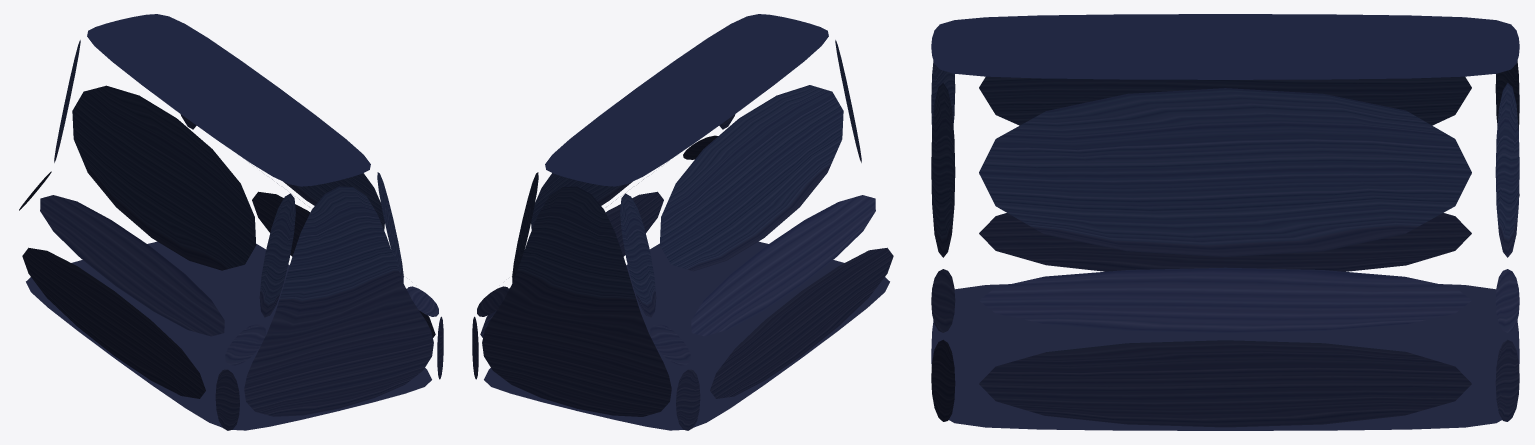
Rendered from construction_barrier.glb.
3 views of the same model, side by side, from view 1: azimuth 30°, elevation 25°; view 2: azimuth 150°, elevation 25°; view 3: azimuth 270°, elevation 25° (orthographic). The views are drawn at different scales.
Parts seen in each view (by area): view 1: construction_barrier; view 2: construction_barrier; view 3: construction_barrier.
Part boxes in pixels (x1=…): construction_barrier: x1=19, y1=14, x2=443, y2=430; construction_barrier: x1=472, y1=14, x2=893, y2=430; construction_barrier: x1=931, y1=14, x2=1519, y2=430.
Size of the model in its own units: 0.1355 by 0.13 by 0.225.
1 material, 1 textured.
